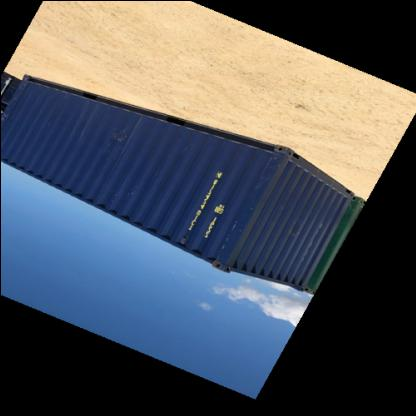Damage: (224, 160, 284, 272)
